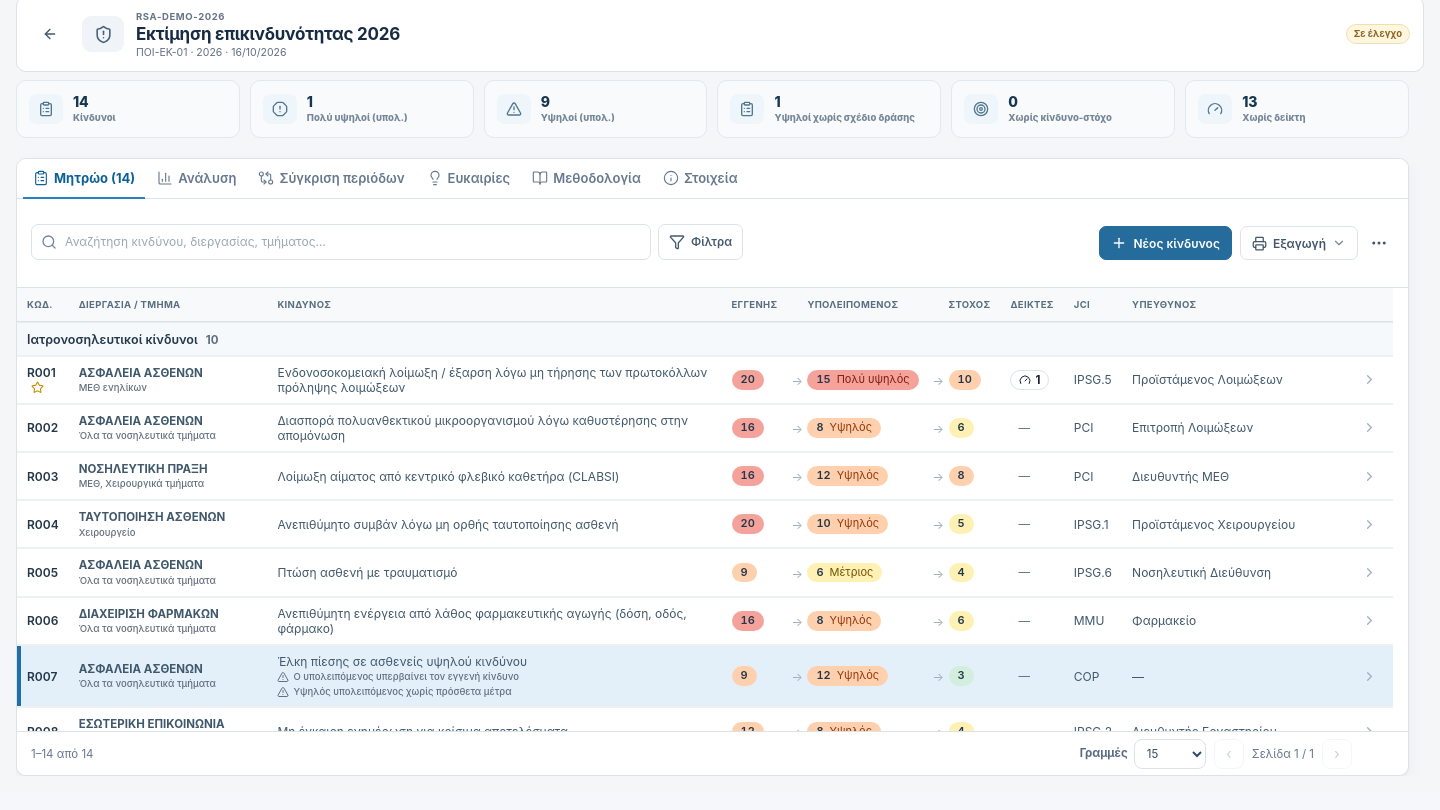
Test case: risk assessment screens › deletes an opportunity from the … menu of its page, after a confirmation
The width and height of the screenshot is (1440, 810).
What coordinates should you click on to do the following:
click the tab "Ευκαιρίες"
I would click on:
 (468, 179)
Its box is [416,159,520,199].
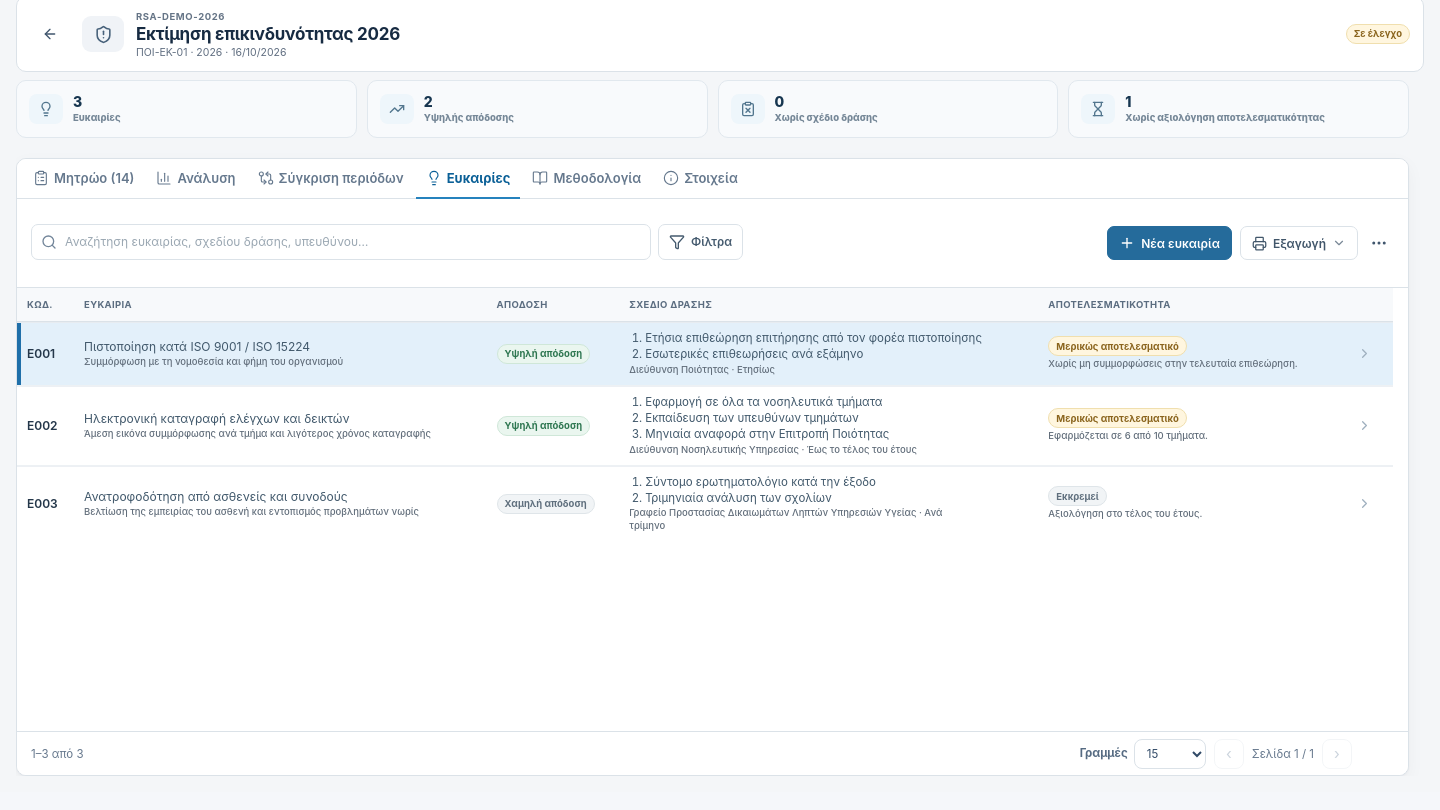
Expected: the button named "Άνοιγμα ευκαιρίας" in the row of "Ε001" is shown, [1351,341,1377,367]
What coordinates should you click on to do the following:
click the text "Ε001"
I would click on:
 (41, 354)
Its box is [27,346,55,361].
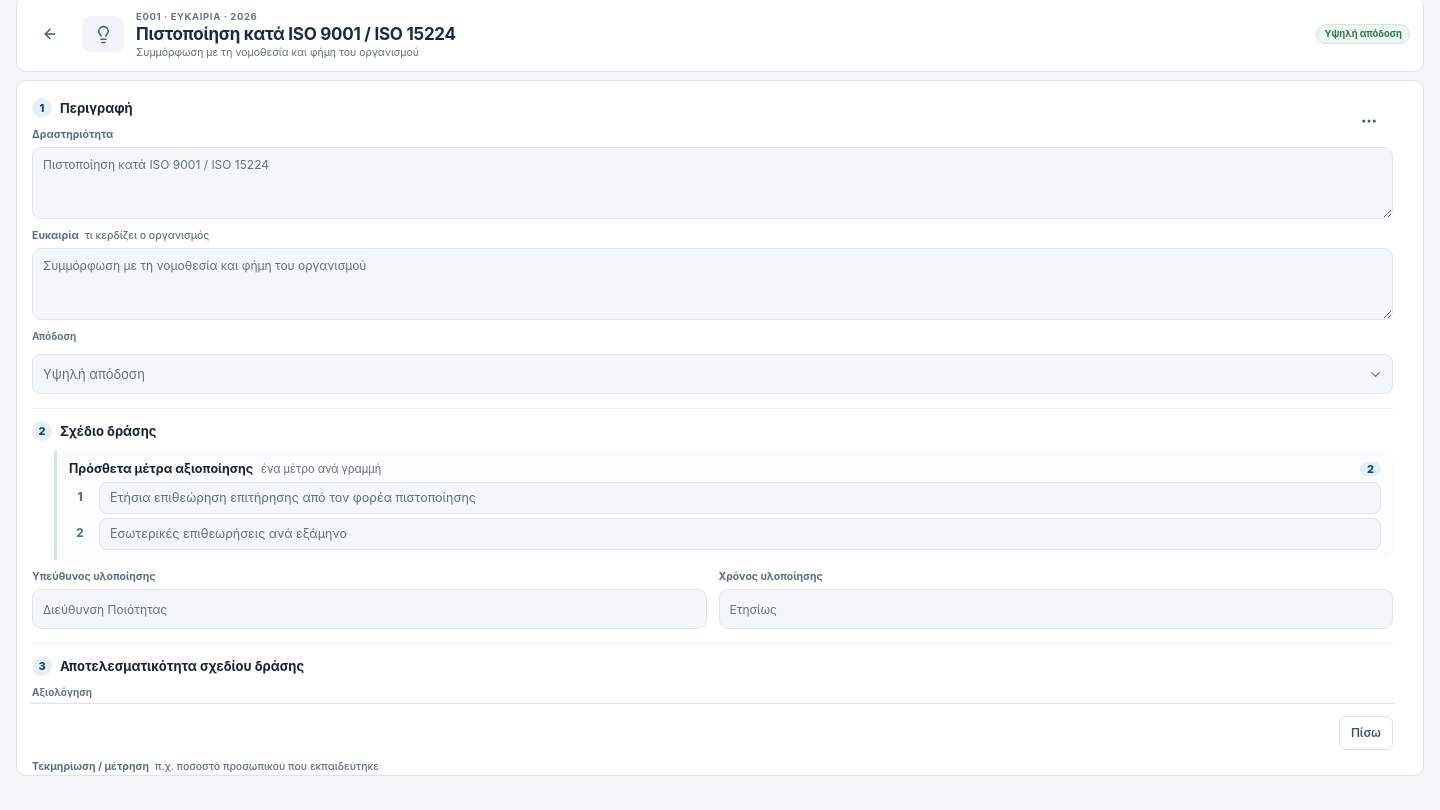
What coordinates should you click on to do the following:
click the button named "Ενέργειες εγγραφής"
I would click on:
 (1369, 121)
Its box is [1354,106,1384,136].
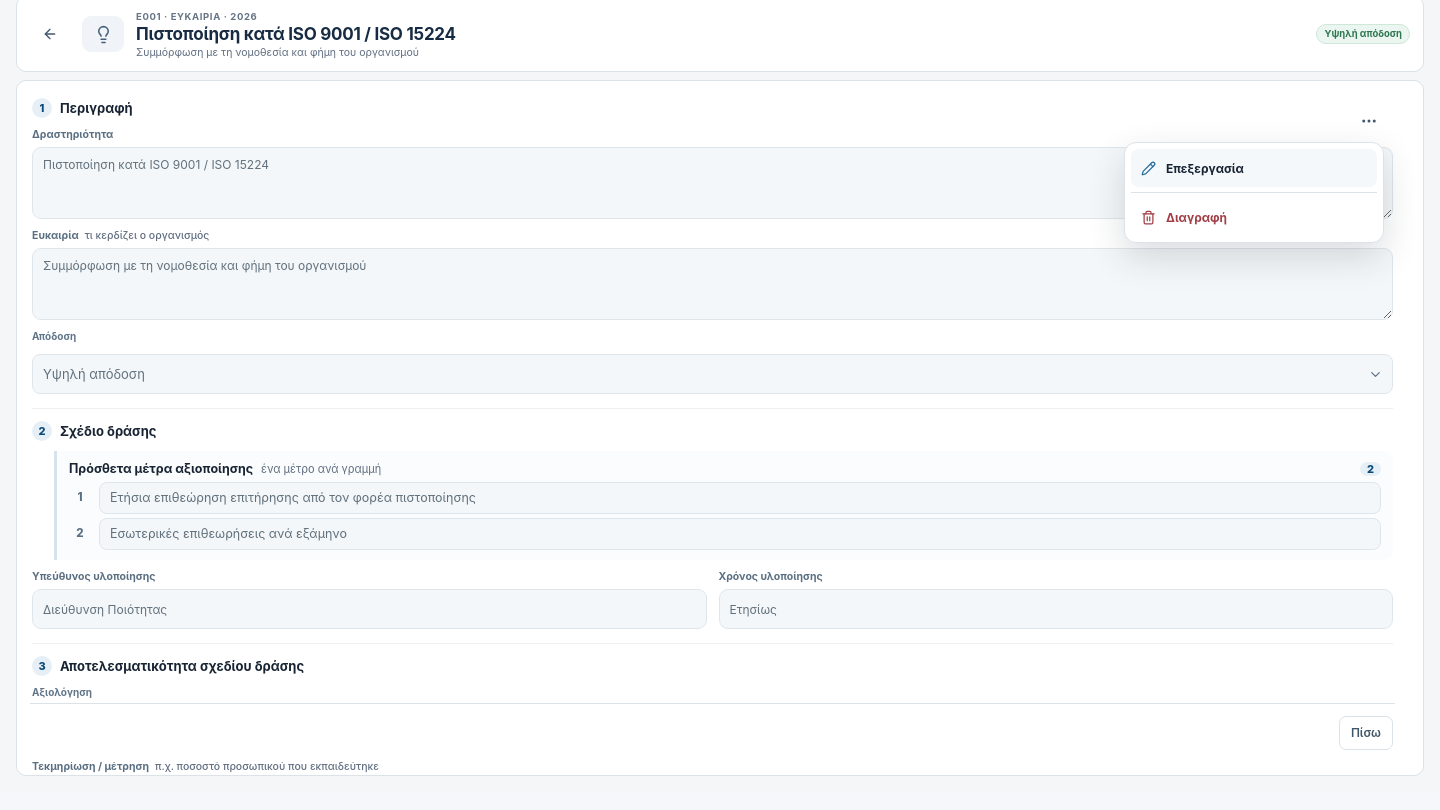
What coordinates should you click on to do the following:
click the menu item "Διαγραφή"
I would click on:
 (1254, 217)
Its box is [1131,198,1377,236].
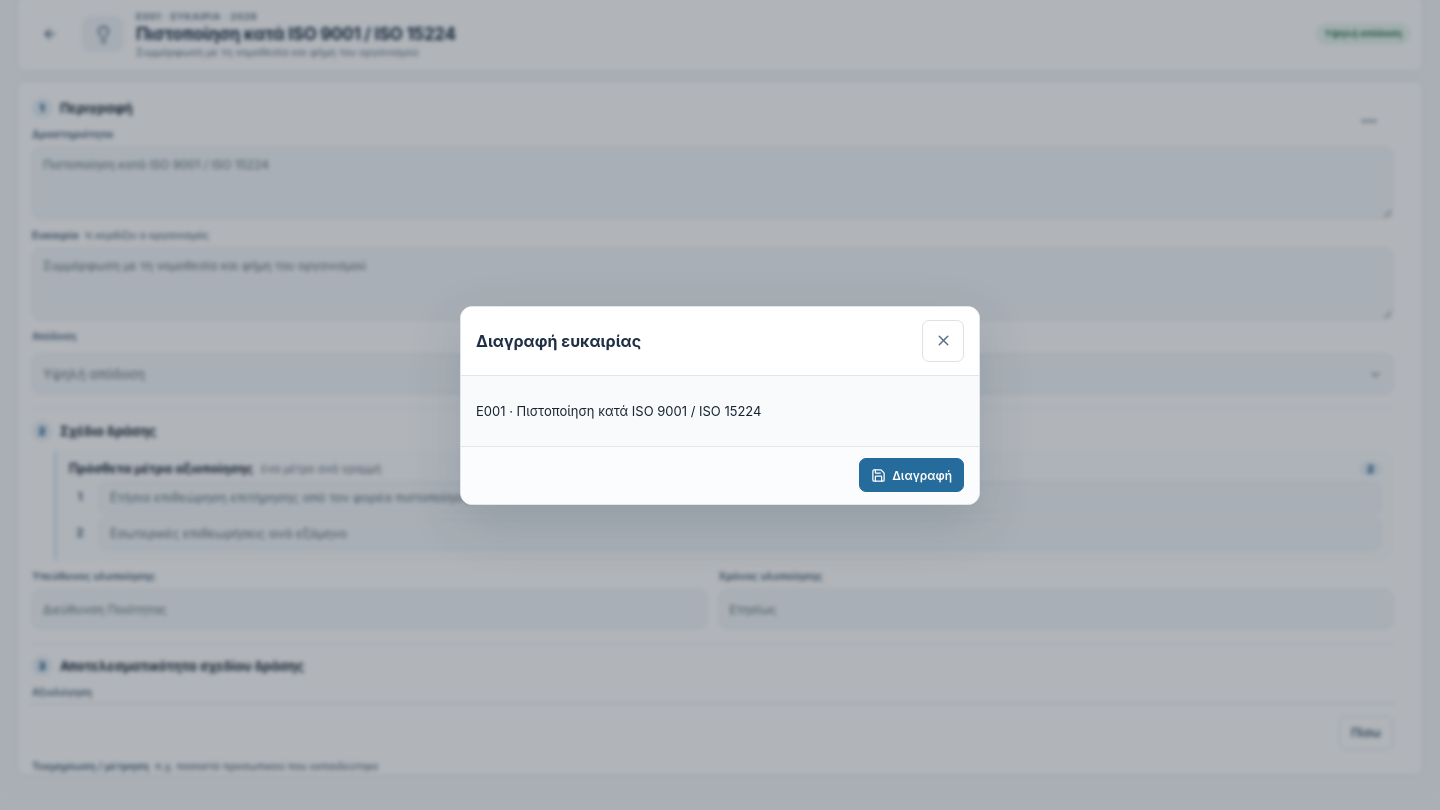
What coordinates should you click on to do the following:
click the button "Διαγραφή"
I would click on:
 (912, 475)
Its box is [859,458,964,492].
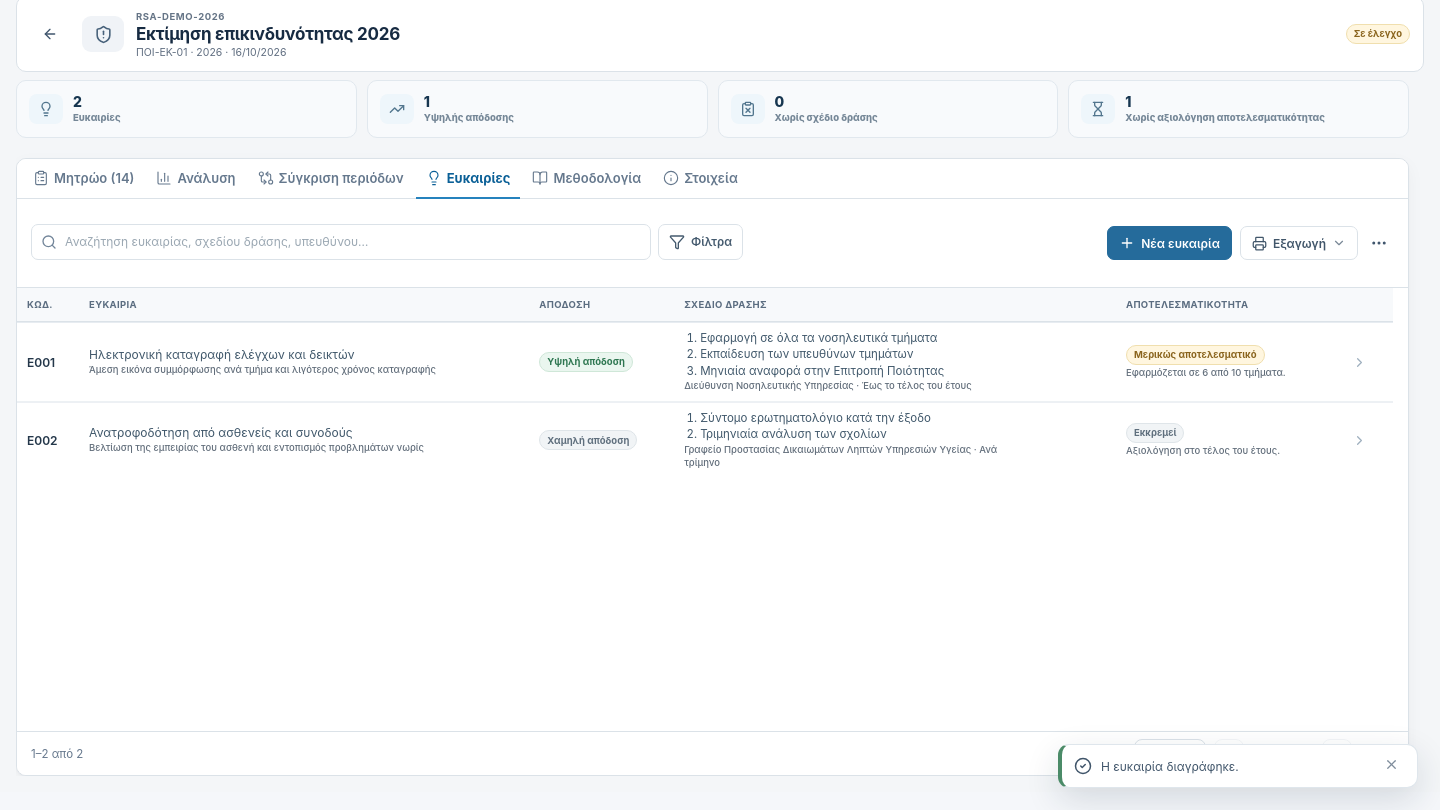
Expected: the tab "Ευκαιρίες" is shown, [416,159,520,199]
Expected: the number of rows with class "risk-row-clickable" is 2, [17,322,1393,402]; [17,402,1393,477]
